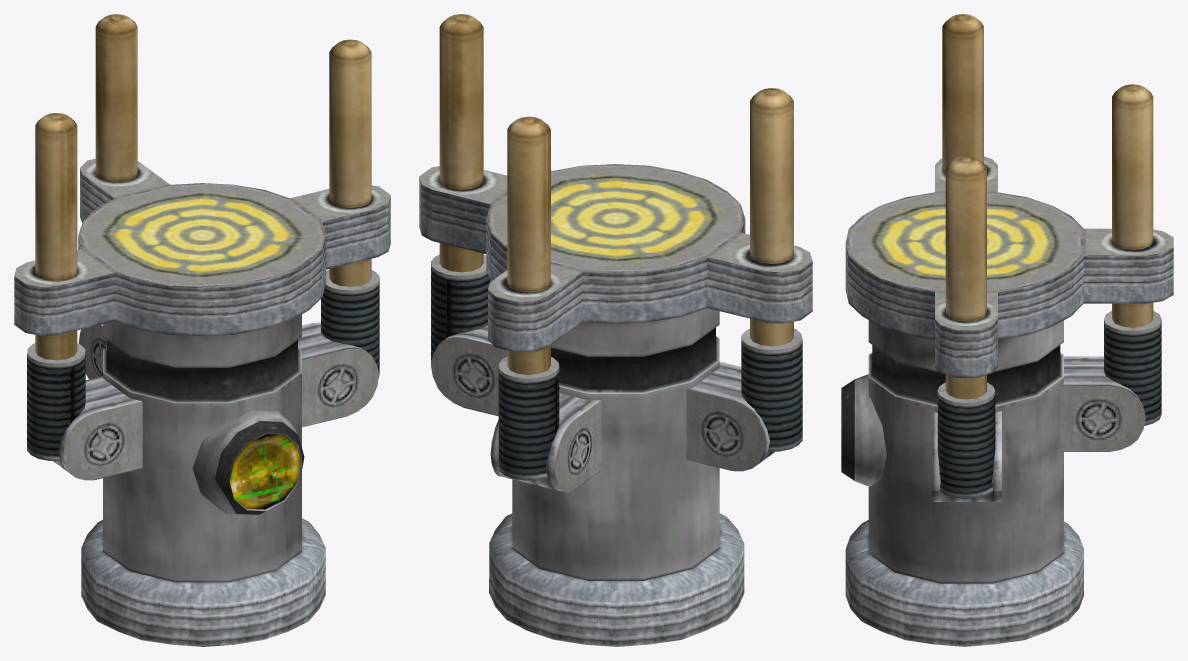
The model's file is ship_component_reactor_s02_l0.fbx.
3 renders of one model, left to right at view 1: azimuth 30°, elevation 25°; view 2: azimuth 150°, elevation 25°; view 3: azimuth 270°, elevation 25°, orthographic. The views are drawn at different scales.
Visible parts, largest first — view 1: mesh_node; view 2: mesh_node; view 3: mesh_node.
Boxes of the visible parts, x1,y1,x2,y2 form: mesh_node: (14,14,390,646); mesh_node: (419,14,812,646); mesh_node: (841,14,1173,646).
Bounding box in the file's own units: 1.23 × 1.66 × 0.9829.
